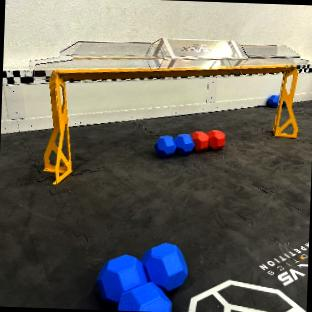Goal: (34, 38, 307, 184)
V5_BLUE: (97, 243, 187, 312), (154, 134, 193, 156), (267, 95, 279, 107), (283, 101, 287, 107)
V5_RED: (191, 130, 225, 151)
